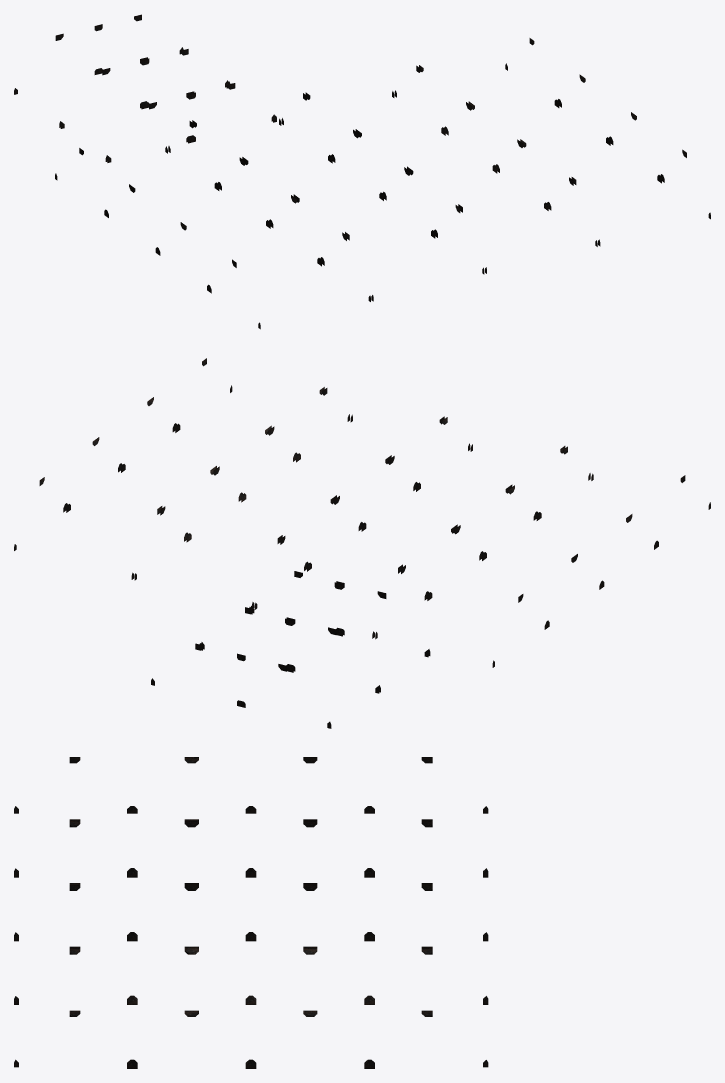
The model's file is Archives_Alpha_105.glb.
The picture shows the model from 3 angles, top to bottom: view 1: azimuth 30°, elevation 25°; view 2: azimuth 150°, elevation 25°; view 3: azimuth 270°, elevation 25°; orthographic projection. The views are drawn at different scales.
Parts seen in each view (by area): view 1: Archives_Alpha_105; view 2: Archives_Alpha_105; view 3: Archives_Alpha_105.
Boxes of the visible parts, bbox=[...] form: Archives_Alpha_105: bbox=[14, 14, 710, 329]; Archives_Alpha_105: bbox=[14, 358, 710, 728]; Archives_Alpha_105: bbox=[14, 757, 488, 1068].
Bounding box in the file's own units: 190 × 19.75 × 220.
Materials: 1 (1 with a texture image).
